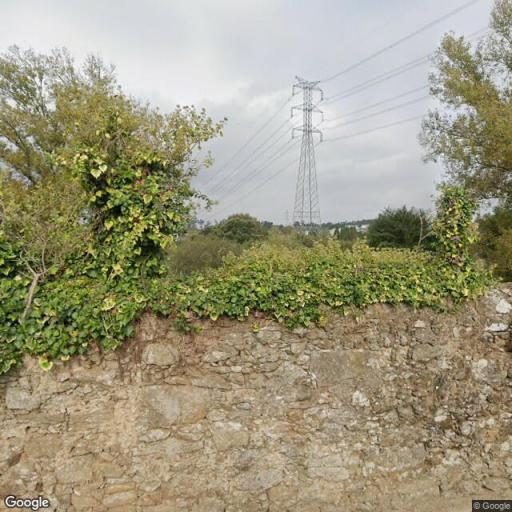ss_3: (287, 72, 330, 222)
